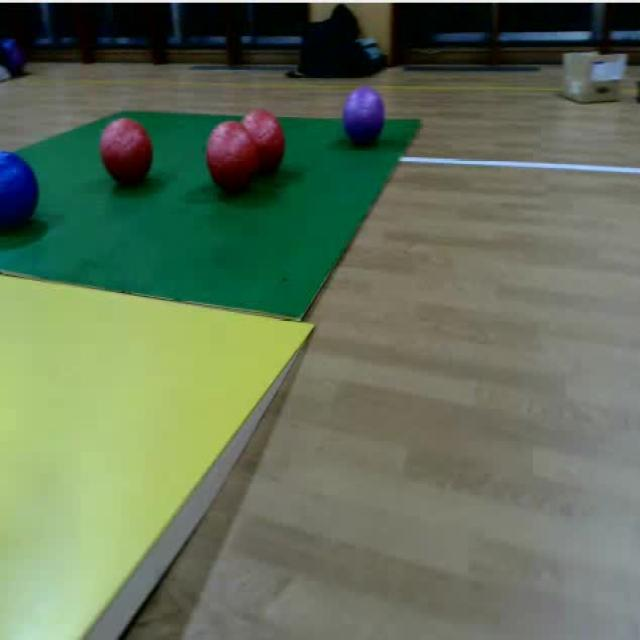blue_ball: (0, 148, 44, 229)
purple_ball: (342, 85, 390, 147)
red_ball: (94, 117, 158, 189), (236, 106, 288, 178), (210, 120, 255, 194)
